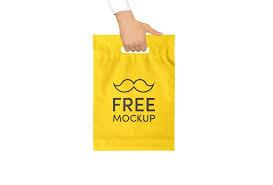Plastic bag: (81, 29, 191, 166)
